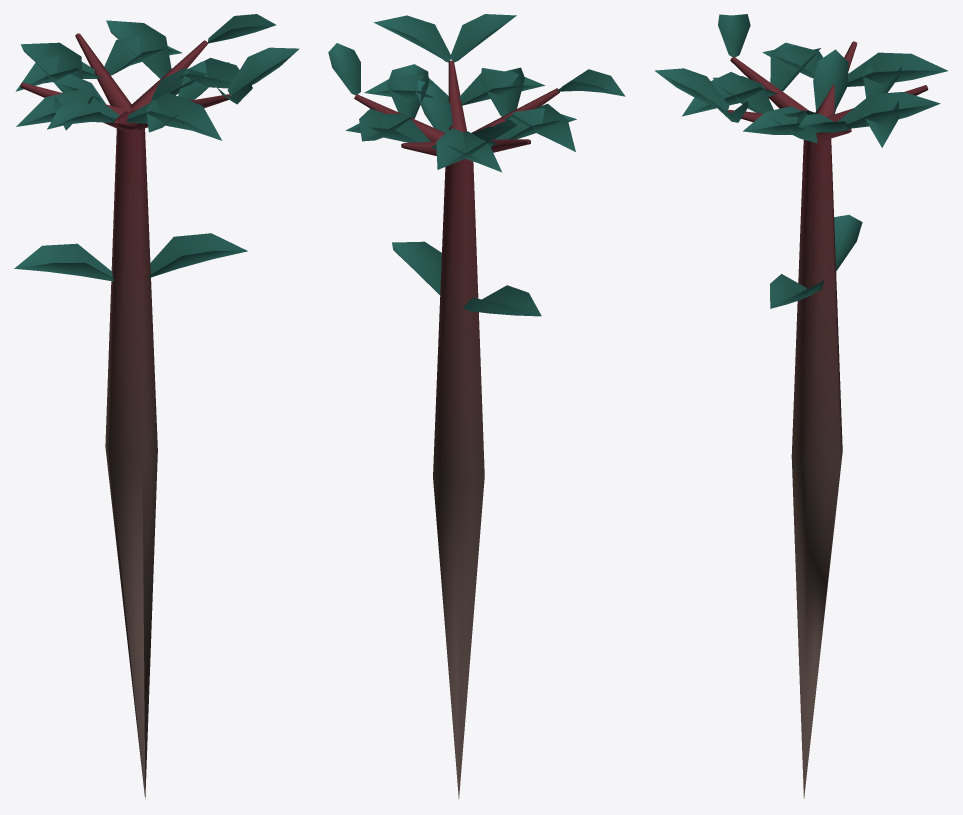
Rendered from plants-leafy-plants-tall-sprout_v6.glb.
3 renders of one model, left to right at view 1: azimuth 30°, elevation 25°; view 2: azimuth 150°, elevation 25°; view 3: azimuth 270°, elevation 25°, orthographic. The views are drawn at different scales.
Parts seen in each view (by area): view 1: Tall Sprout_v6; view 2: Tall Sprout_v6; view 3: Tall Sprout_v6.
Boxes of the visible parts, bbox=[...] form: Tall Sprout_v6: bbox=[14, 14, 299, 798]; Tall Sprout_v6: bbox=[328, 14, 625, 799]; Tall Sprout_v6: bbox=[655, 14, 947, 798].
Bounding box in the file's own units: 0.2936 × 0.8 × 0.2881.
